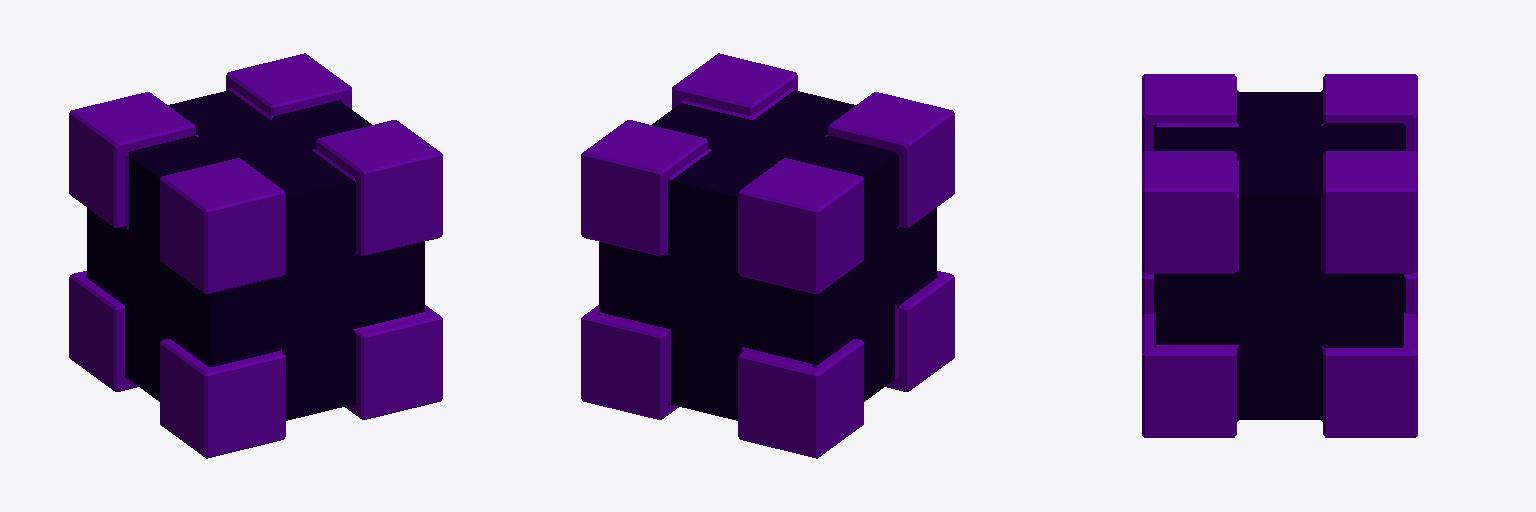
File: playerDumy.obj
3 views of the same model, side by side, from view 1: azimuth 30°, elevation 25°; view 2: azimuth 150°, elevation 25°; view 3: azimuth 270°, elevation 25° (orthographic).
Parts seen in each view (by area): view 1: proGamer_Cube.001; view 2: proGamer_Cube.001; view 3: proGamer_Cube.001.
Boxes of the visible parts, box(x1,y1,x2,y2) form: proGamer_Cube.001: box(69, 53, 442, 458); proGamer_Cube.001: box(581, 53, 954, 458); proGamer_Cube.001: box(1142, 74, 1417, 437).
Size of the model in its own units: 1.56 by 1.56 by 1.56.